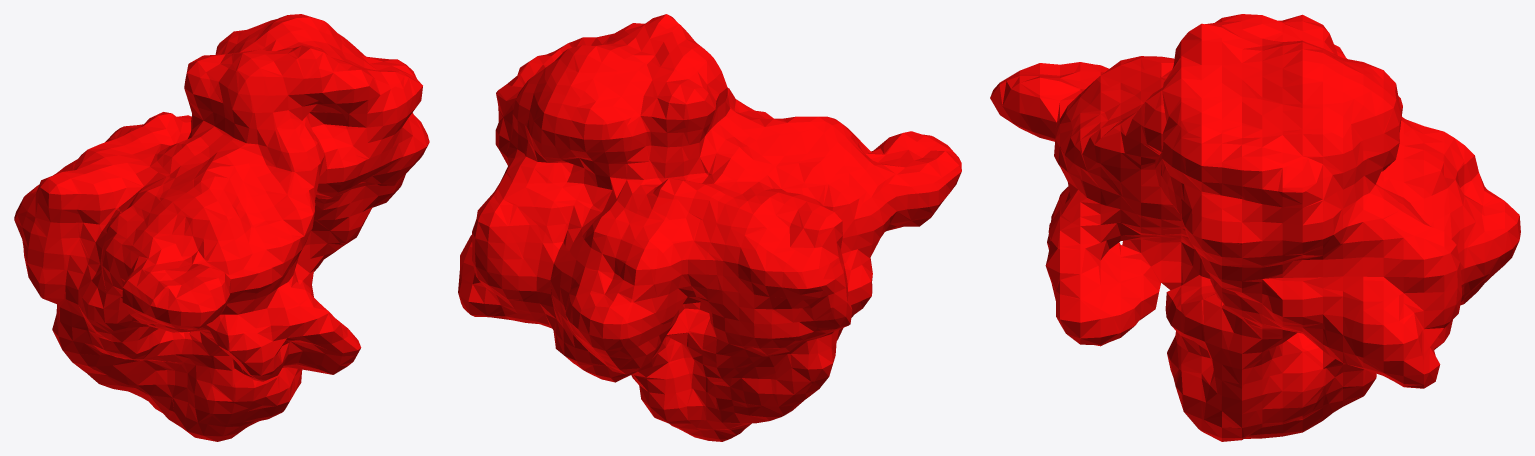
Rendered from polA_coarse.dae.
3 views of the same model, side by side, from view 1: azimuth 30°, elevation 25°; view 2: azimuth 150°, elevation 25°; view 3: azimuth 270°, elevation 25° (orthographic). The views are drawn at different scales.
Visible parts, largest first — view 1: polA; view 2: polA; view 3: polA.
Part boxes in pixels (bbox=[...]): polA: bbox=[14, 14, 429, 441]; polA: bbox=[458, 14, 961, 441]; polA: bbox=[990, 14, 1520, 441].
Size of the model in its own units: 88.39 by 89.53 by 94.83.
